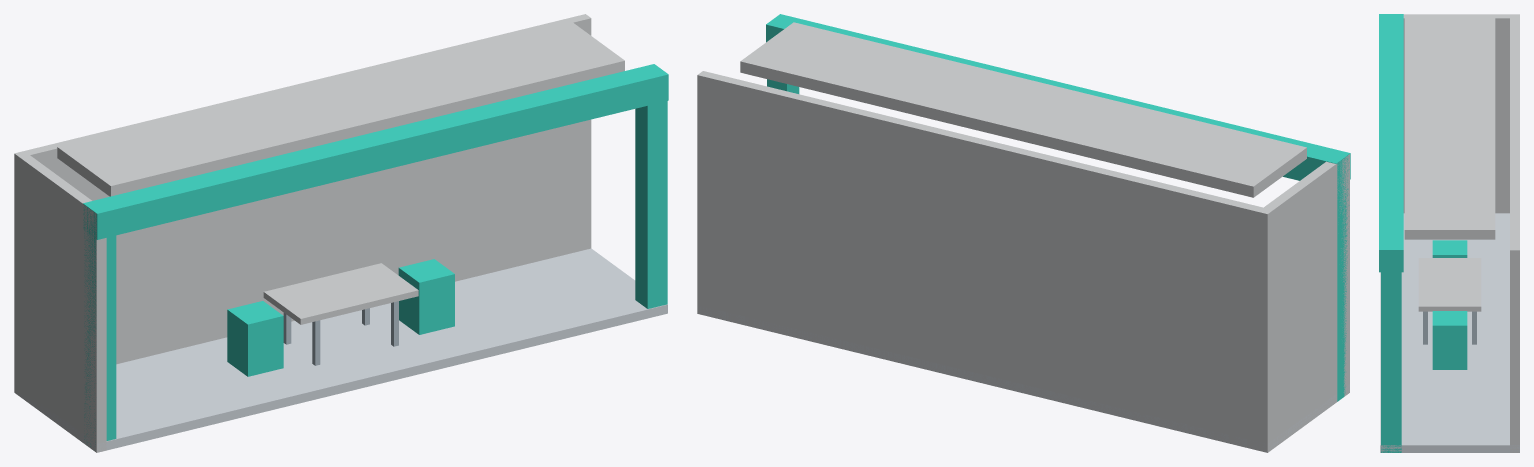
3 renders of one model, left to right at view 1: azimuth 30°, elevation 25°; view 2: azimuth 150°, elevation 25°; view 3: azimuth 270°, elevation 25°, orthographic. The views are drawn at different scales.
Parts seen in each view (by area): view 1: Exhibition Booth Concept; view 2: Exhibition Booth Concept; view 3: Exhibition Booth Concept.
Part boxes in pixels (x1,y1,x2,y2): Exhibition Booth Concept: [14, 14, 668, 452]; Exhibition Booth Concept: [697, 14, 1350, 452]; Exhibition Booth Concept: [1379, 14, 1519, 452].
Bounding box in the file's own units: 8 × 3.34 × 2.01.
